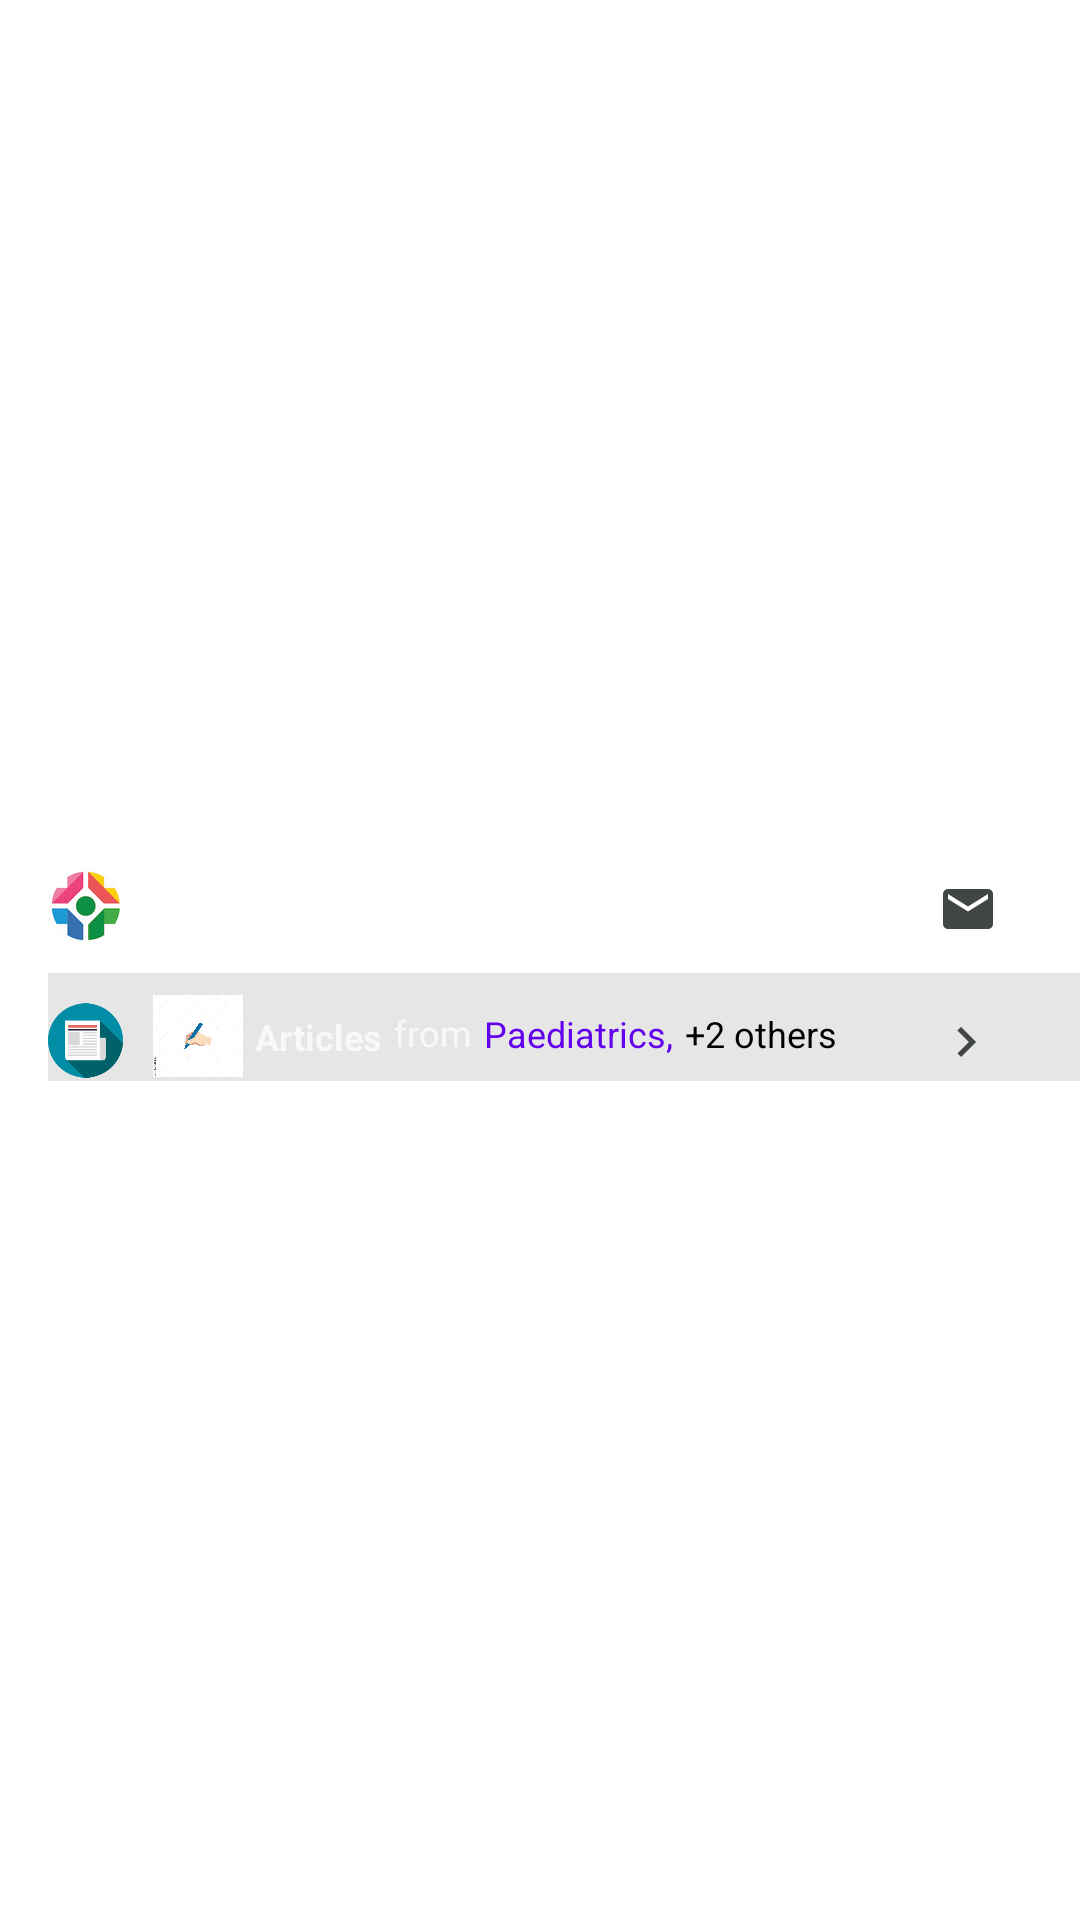

Icon bounding boxes for this 1080 x 1920 phone screenshot, format (x1, y1, x2, y2):
chevron right: (957, 1027, 976, 1057)
email: (943, 889, 993, 929)
